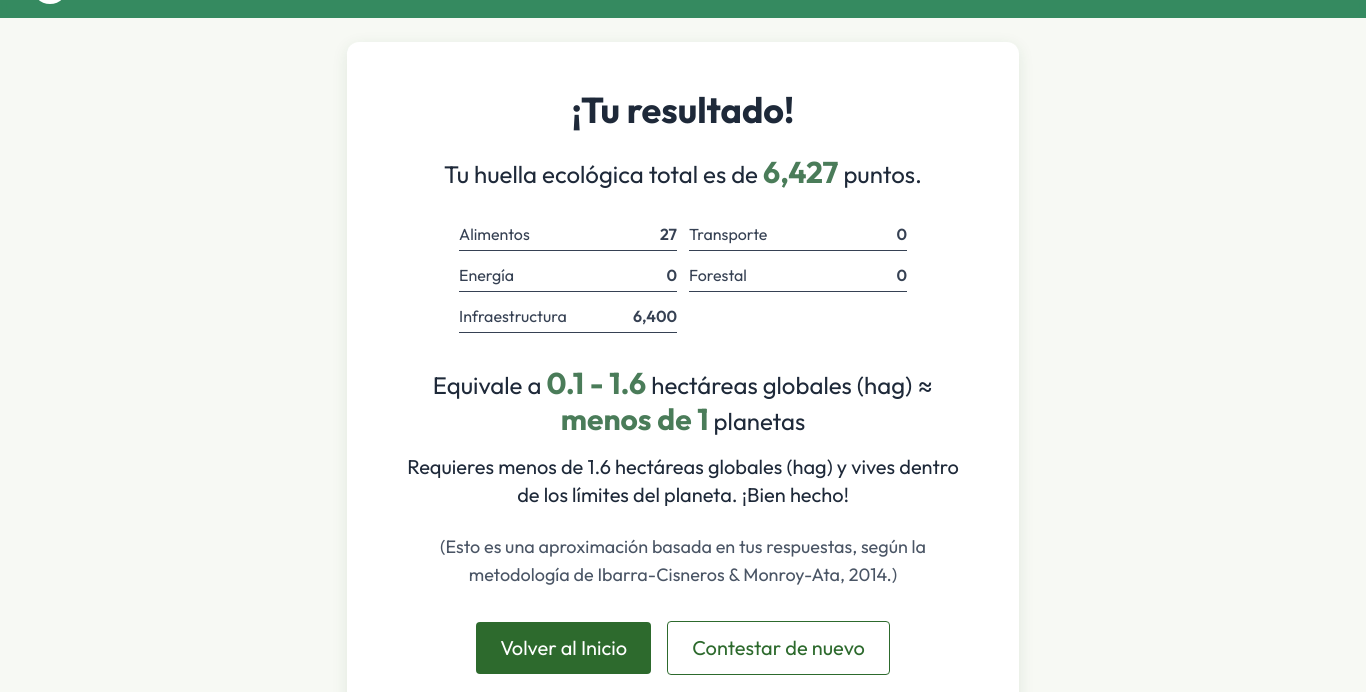
Test case: Calculadora - persistencia en localStorage › pantalla de resultados restaurada › Contestar de nuevo borra el progreso y vuelve a la pregunta 1
Click the button "Contestar de nuevo". click: (778, 648)
box: x1=667 y1=621 x2=890 y2=675
(page scrolled)
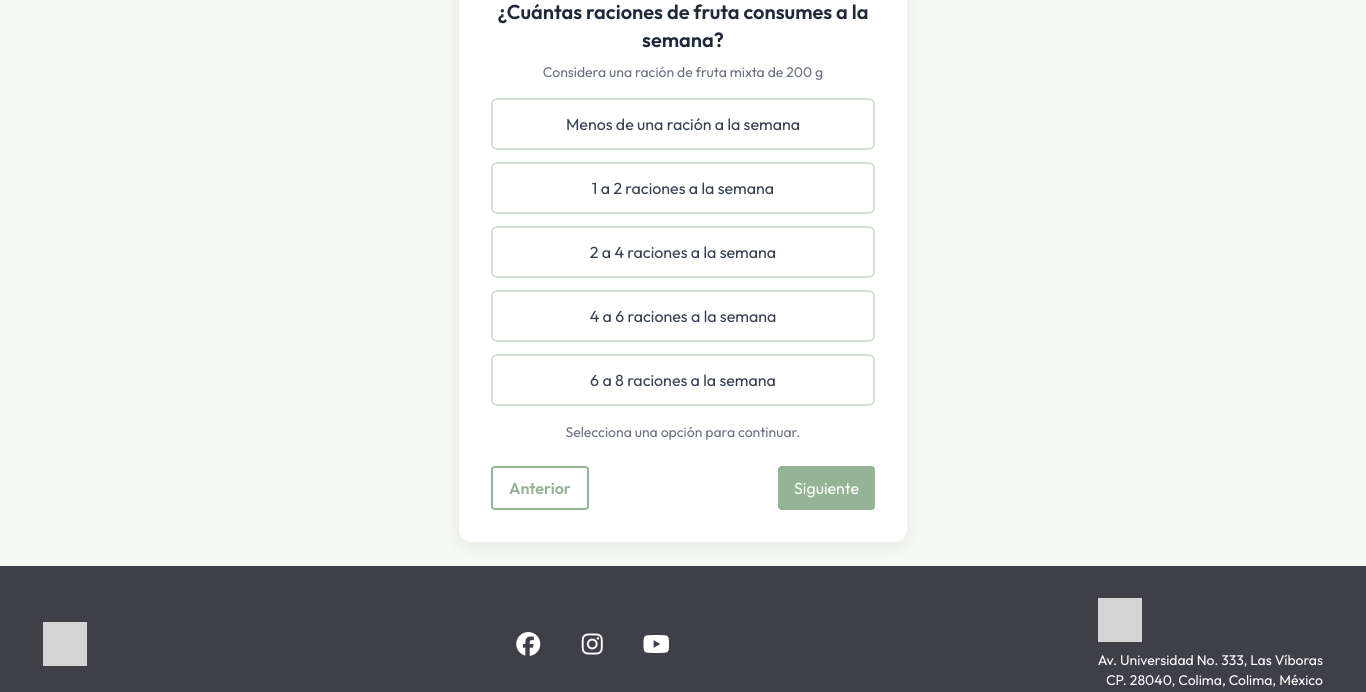
Check: the button "Siguiente" is disabled, box x1=778 y1=466 x2=875 y2=510
